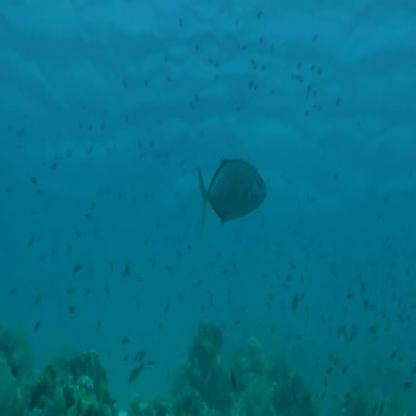Carangidae -Jacks-: (191, 140, 263, 230)
